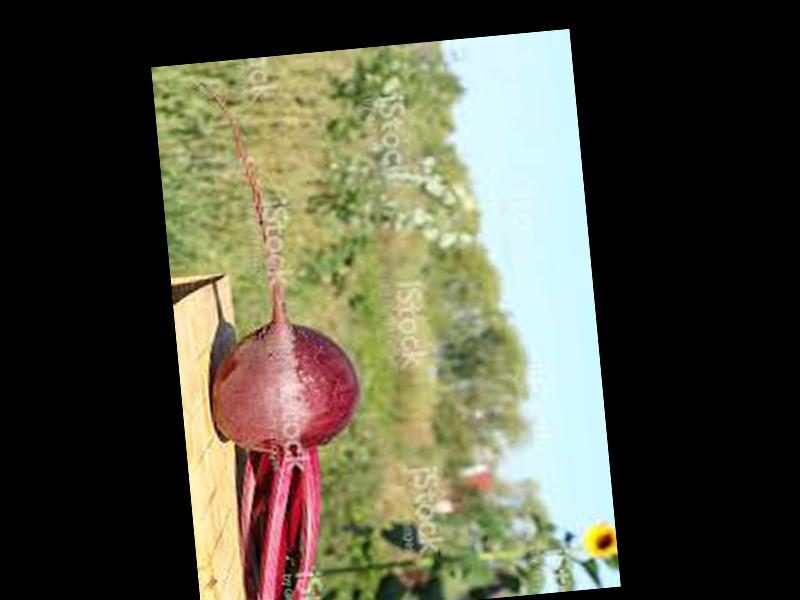Beet: (182, 71, 378, 600)
